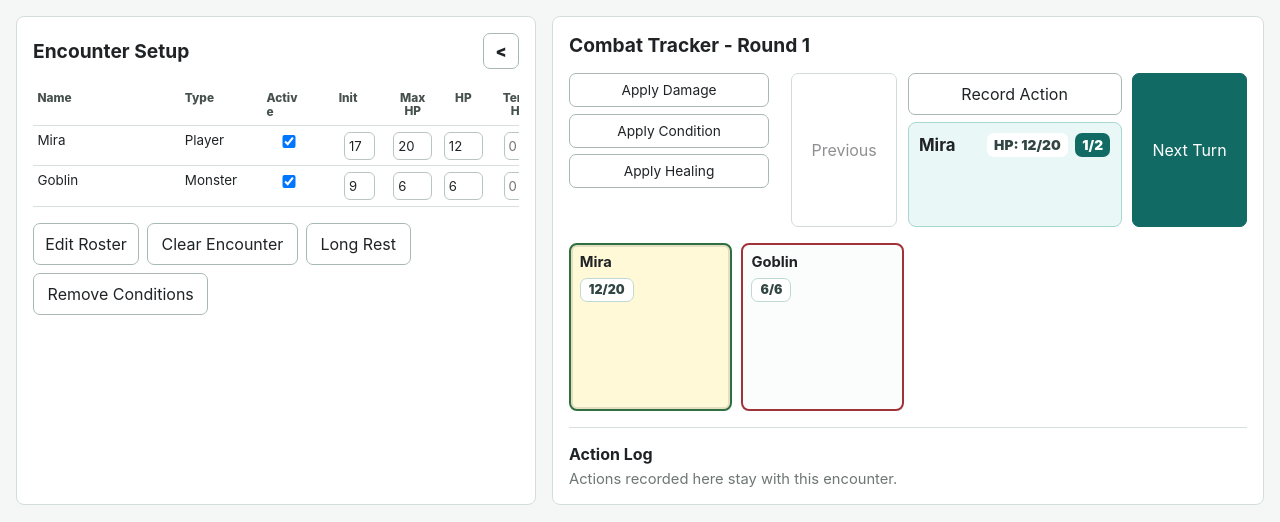
App workflow › applies a searched condition to selected combatant cards
Click the button "Apply Condition".
click(669, 131)  # box [569,114,769,148]
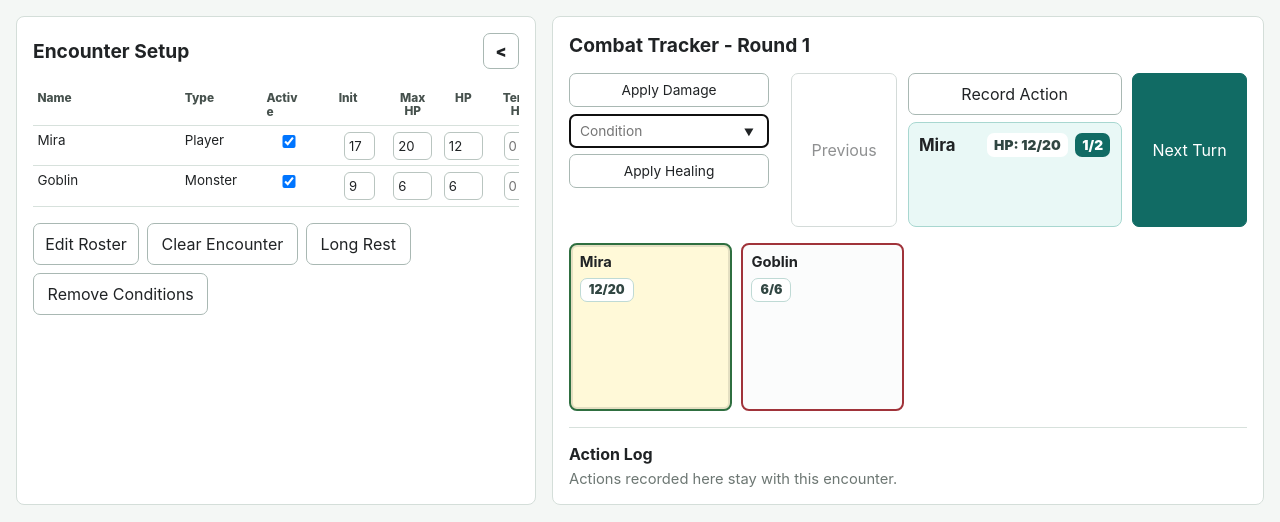
Type "po" into the field labelled "Condition".
click(669, 131); type("po")  # box [569,114,769,148]
Press Tab
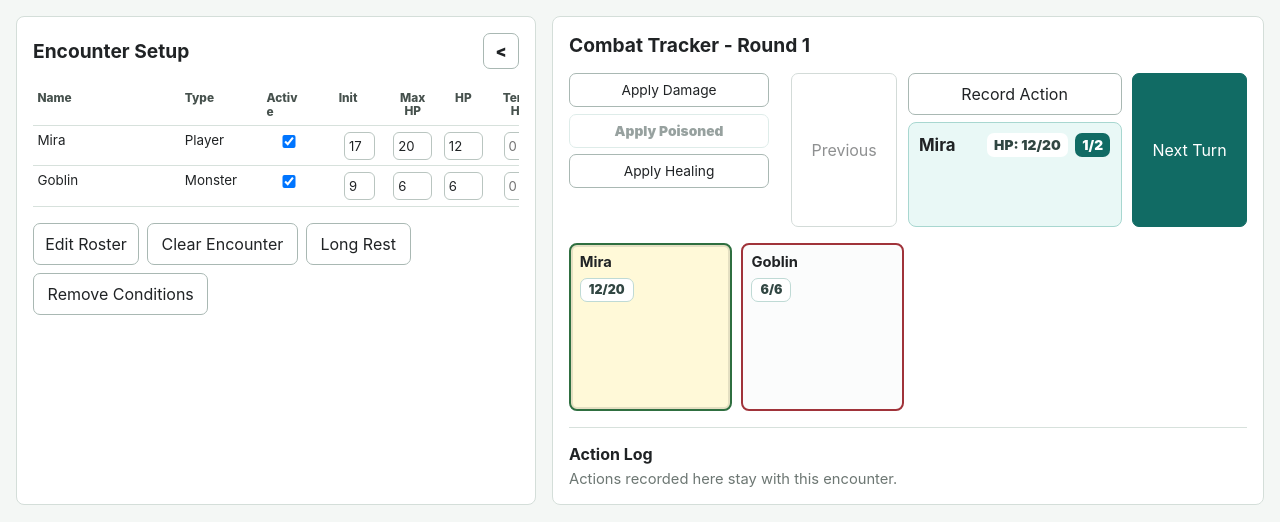
Check: the button "Apply Poisoned" is disabled, box [569,114,769,148]
Click the element named "Goblin, monster, 2 in initiative order".
click(822, 327)  # box [741,243,904,411]
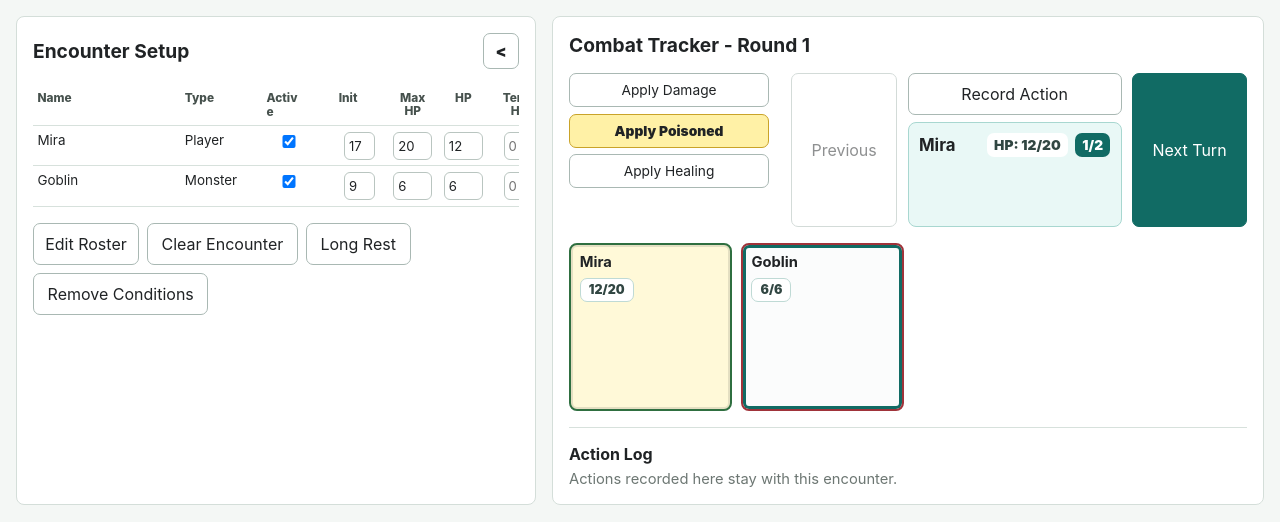
Check: the element named "Goblin, monster, 2 in initiative order" has class "selected", box [741,243,904,411]
Check: the button "Apply Poisoned" has class "ready"
Click the button "Apply Poisoned".
click(669, 131)  # box [569,114,769,148]
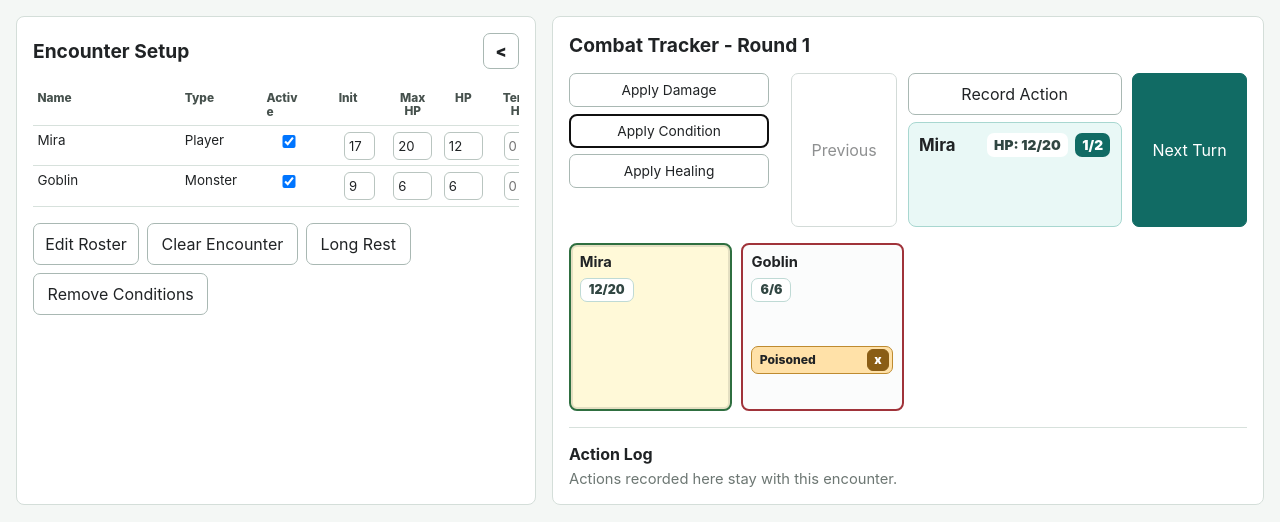
Check: the text "Poisoned" is shown, box [760,352,816,367]
Click the button "Apply Condition".
click(669, 131)  # box [569,114,769,148]
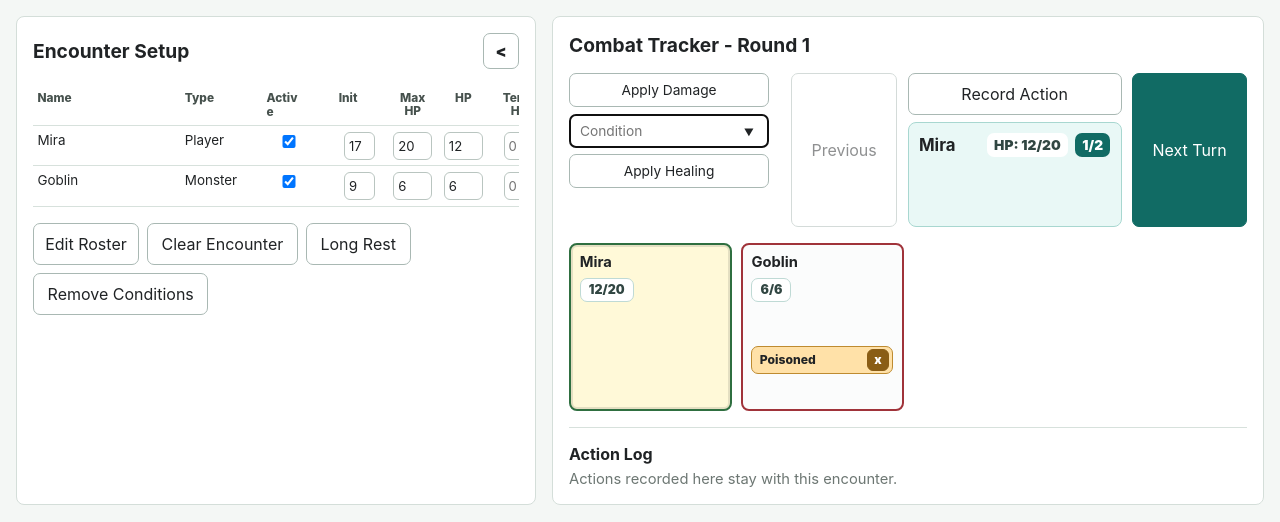
Type "Sleepy" into the field labelled "Condition".
click(669, 131); type("Sleepy")  # box [569,114,769,148]
Press Tab
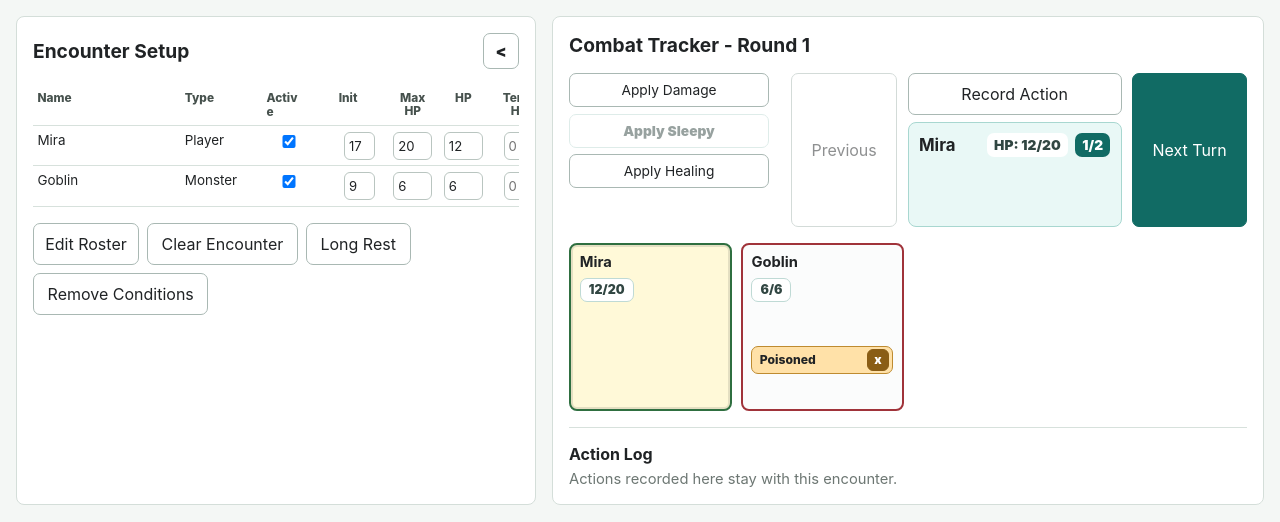
Check: the button "Apply Sleepy" is shown, box [569,114,769,148]
